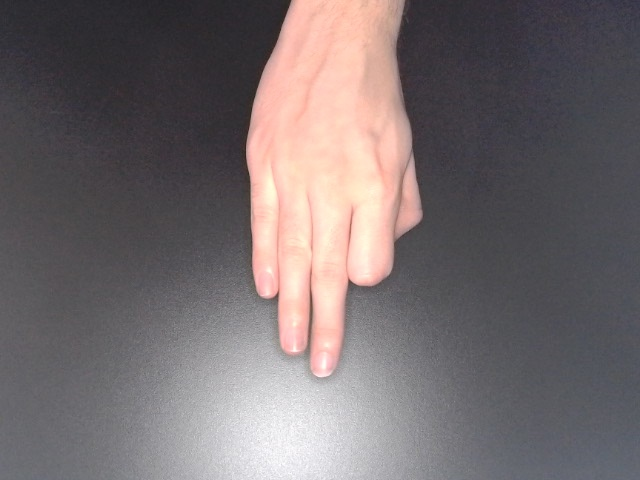m: (236, 1, 430, 384)
